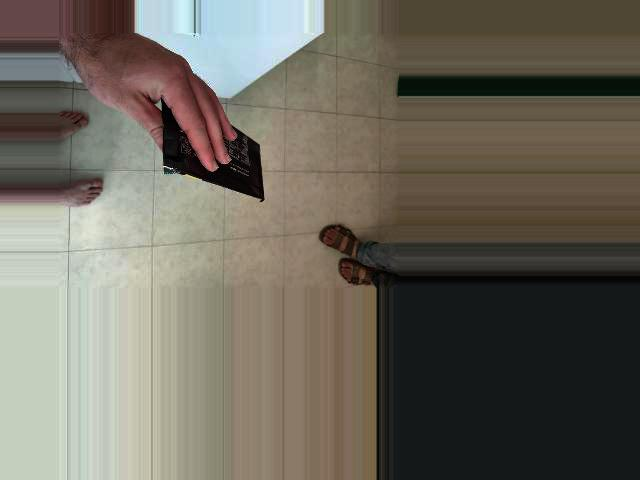chocolate: (189, 157, 316, 302)
